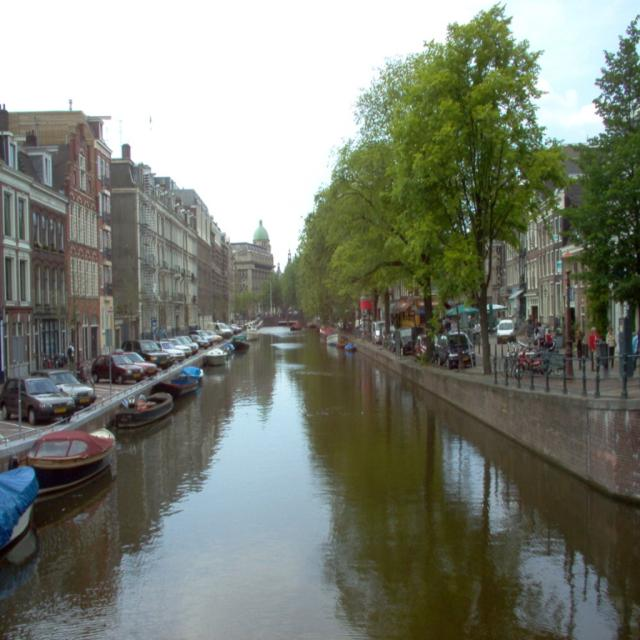car: (494, 321, 516, 339)
